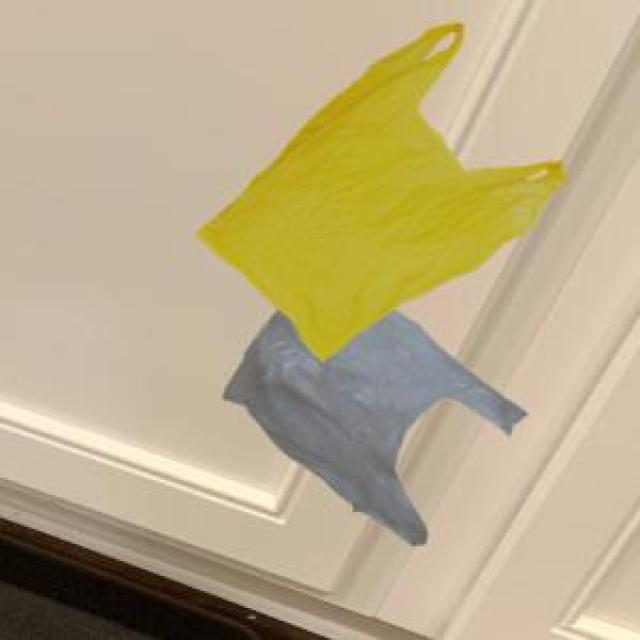plasticcover: (187, 14, 563, 354), (205, 289, 547, 548)
